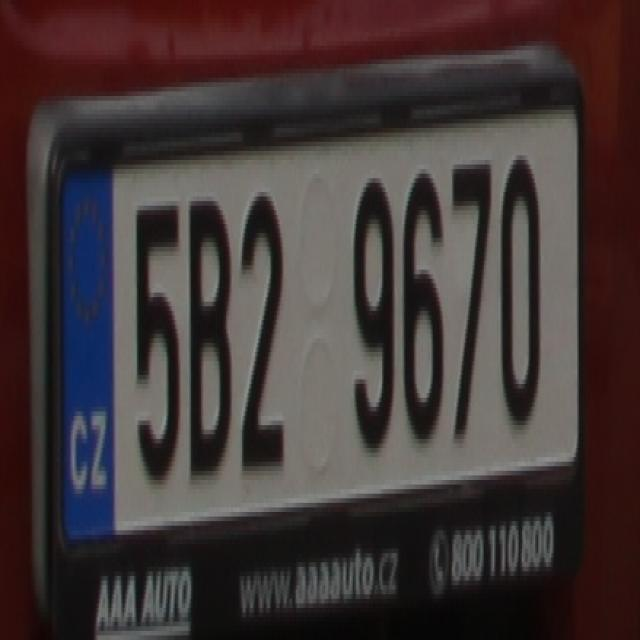0: (500, 146, 542, 425)
2: (238, 187, 287, 480)
5: (134, 188, 184, 489)
6: (401, 164, 446, 439)
7: (451, 151, 492, 452)
9: (352, 178, 396, 448)
B: (185, 188, 232, 489)
